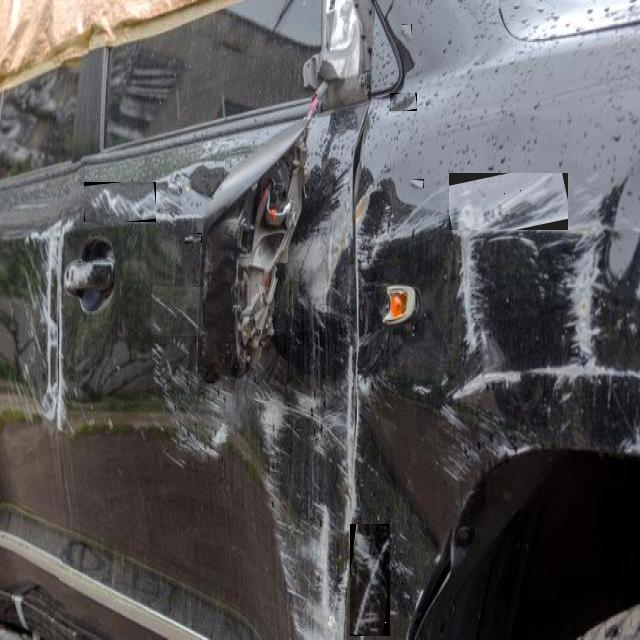Dent: (449, 173, 568, 230), (350, 524, 390, 636), (84, 182, 156, 222), (151, 286, 203, 336), (390, 93, 417, 111), (185, 233, 202, 243), (402, 24, 412, 39), (411, 179, 424, 188)
